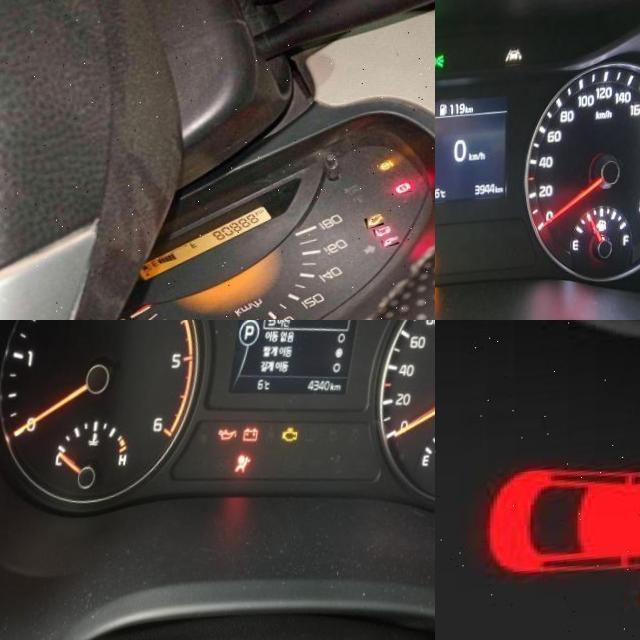LaneCenteringOff: (504, 55, 521, 70)
SideLamp: (435, 58, 444, 76)
